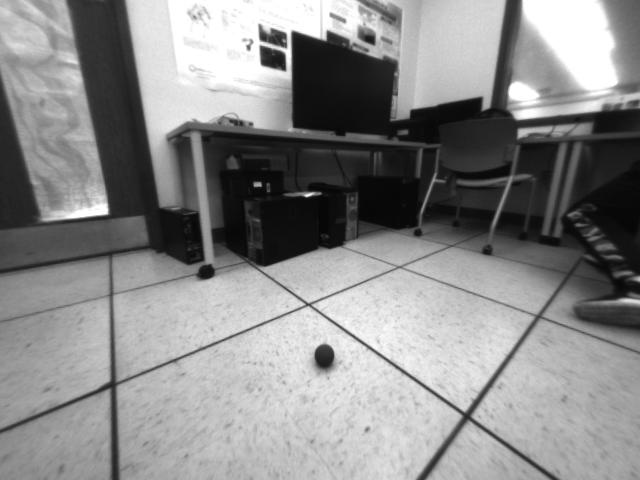dogtoy: (309, 339, 339, 378)
